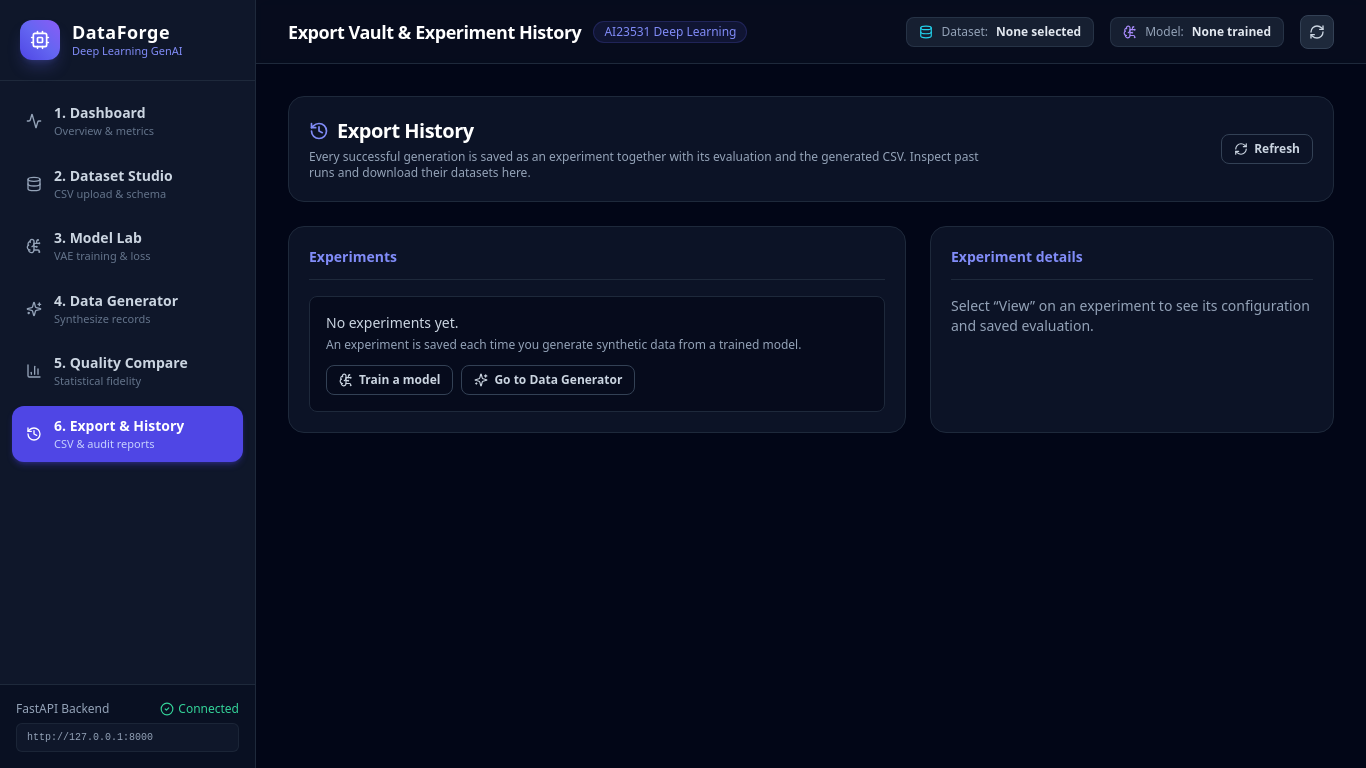
workflow error paths › survives a backend that disappears mid-session
The width and height of the screenshot is (1366, 768).
Expected: the element with test id "empty-history" is shown, [309, 296, 885, 412]
Click the button "Refresh" at (1267, 149), box [1221, 134, 1313, 164]
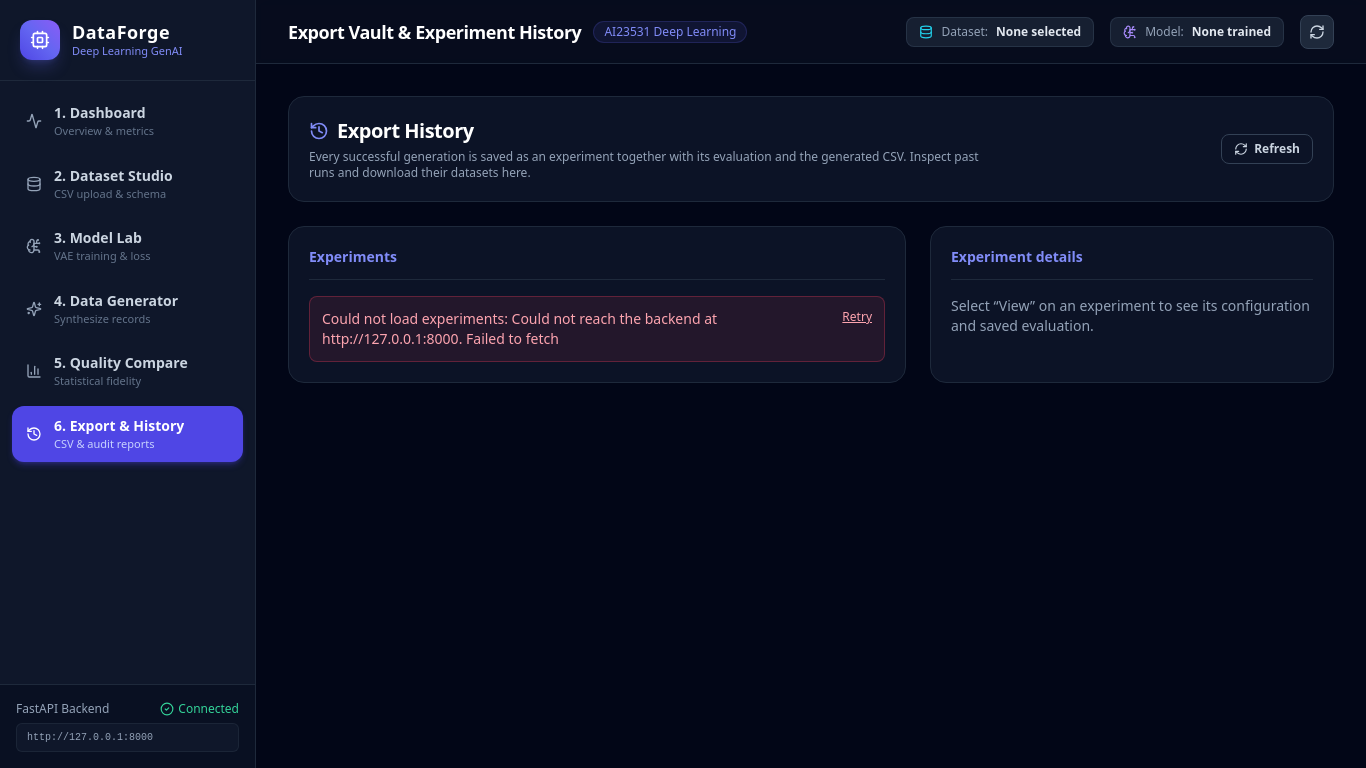
Now the text "Could not load experiments" is shown, box [322, 309, 512, 328]
